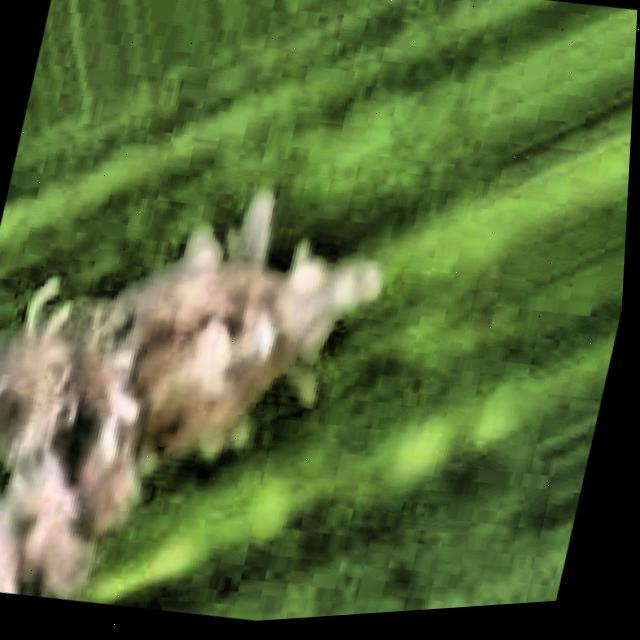Pyrilla-perpusilla: (0, 88, 499, 640)
